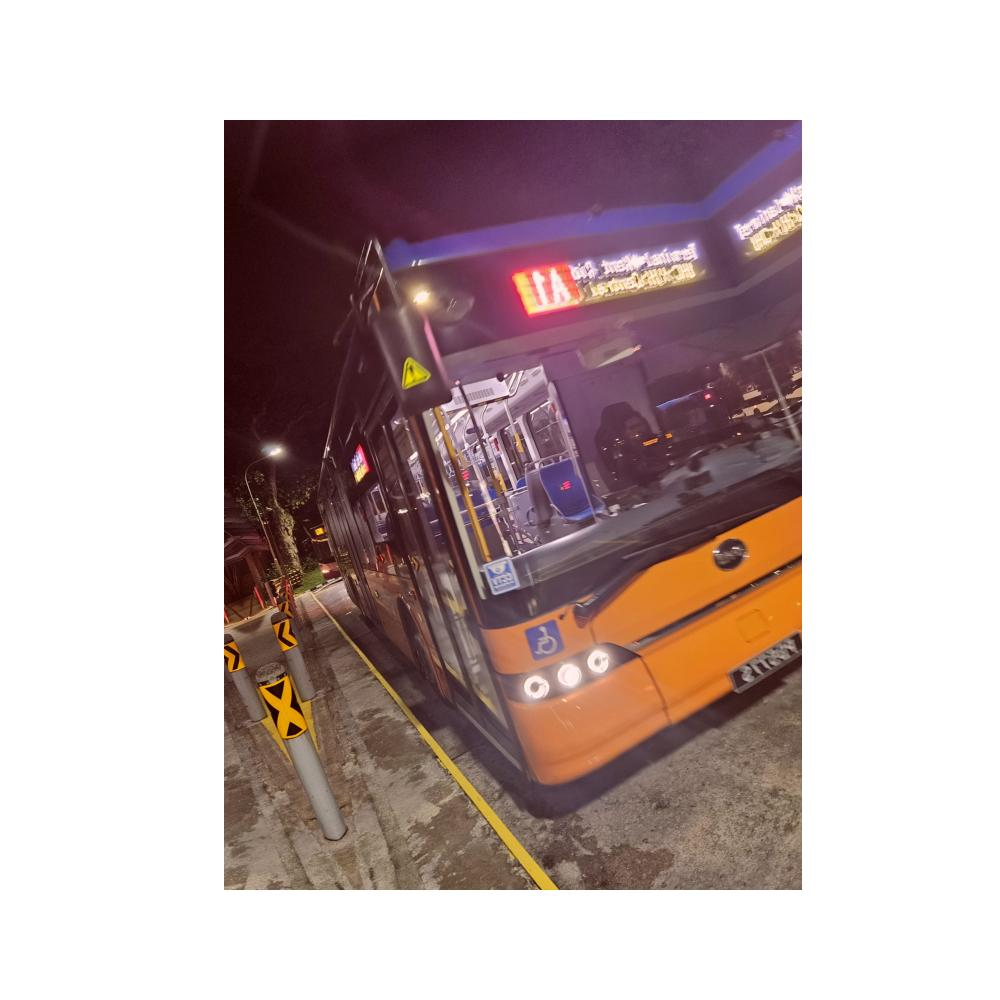bus: (310, 195, 798, 798)
